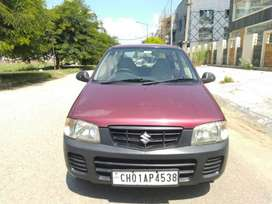CH01AP4538: (112, 171, 178, 185)
